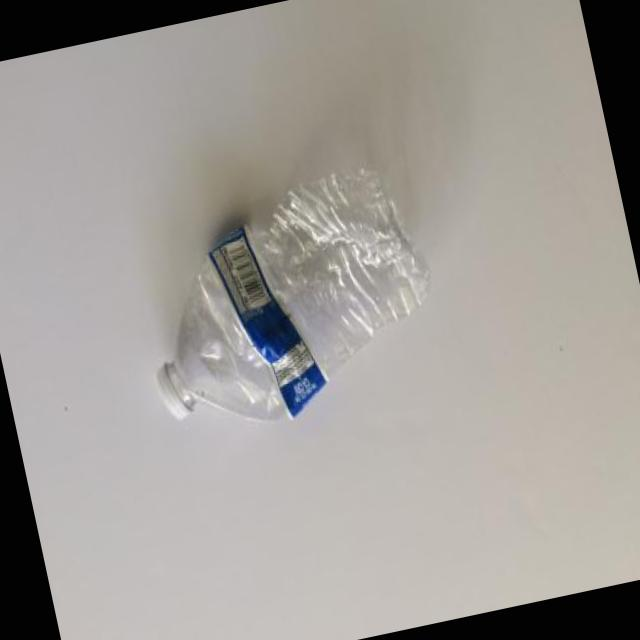Recycle: (119, 154, 457, 448)
